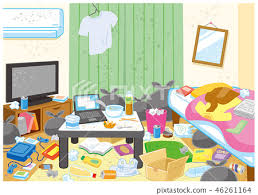Table: (56, 107, 149, 170)
